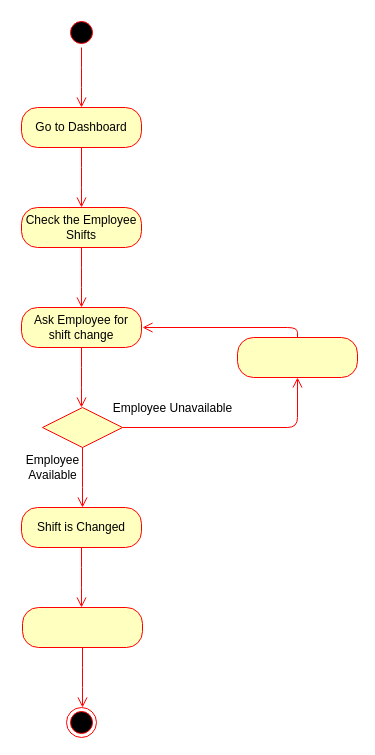
Some shapes in this 375 by 755 pixel diagram are drawn without their labels. The shapes that lost their labels are listed below. From the top down, each one's box as (x1, y1, x2, y2) in pixels, then its label:
(236, 336, 358, 378): Look for another Employee
(22, 606, 142, 648): Back to Employees' Table
